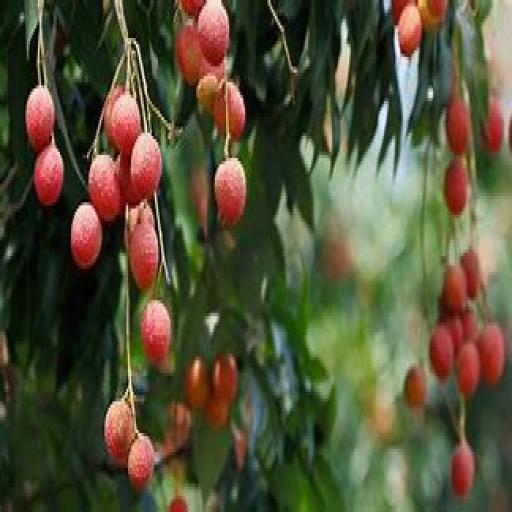lychee: (89, 155, 123, 221), (130, 133, 162, 199), (215, 159, 246, 227), (198, 0, 229, 66), (141, 301, 172, 366), (72, 203, 102, 268), (130, 225, 159, 290), (26, 86, 55, 151), (105, 399, 134, 464), (34, 143, 63, 205), (111, 92, 140, 154), (214, 83, 246, 139), (478, 323, 505, 385), (176, 26, 202, 85), (128, 433, 154, 489), (116, 155, 143, 208), (451, 440, 475, 499), (446, 98, 470, 154), (212, 354, 238, 404), (445, 159, 467, 218), (430, 326, 453, 382), (185, 358, 210, 407), (457, 345, 480, 398), (482, 98, 504, 151), (399, 4, 421, 56), (105, 86, 124, 145), (460, 247, 481, 300), (443, 266, 467, 312), (403, 364, 426, 410), (196, 73, 219, 113), (206, 396, 229, 429), (181, 0, 205, 15), (170, 497, 188, 511)
